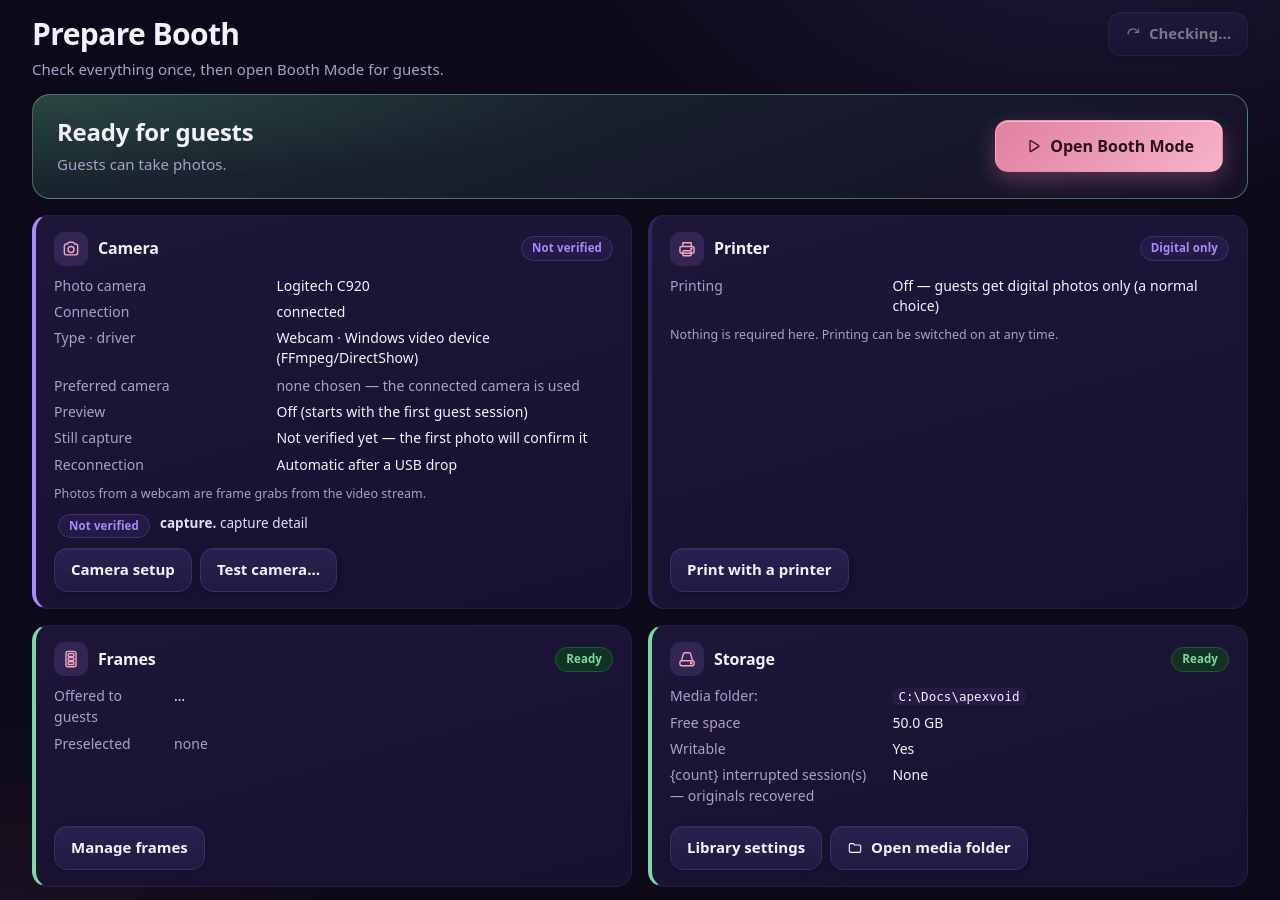
it: Prepare Booth › a refresh already running is not started twice
Click the button "Checking…" at (1178, 34), box [1108,12,1248,56]
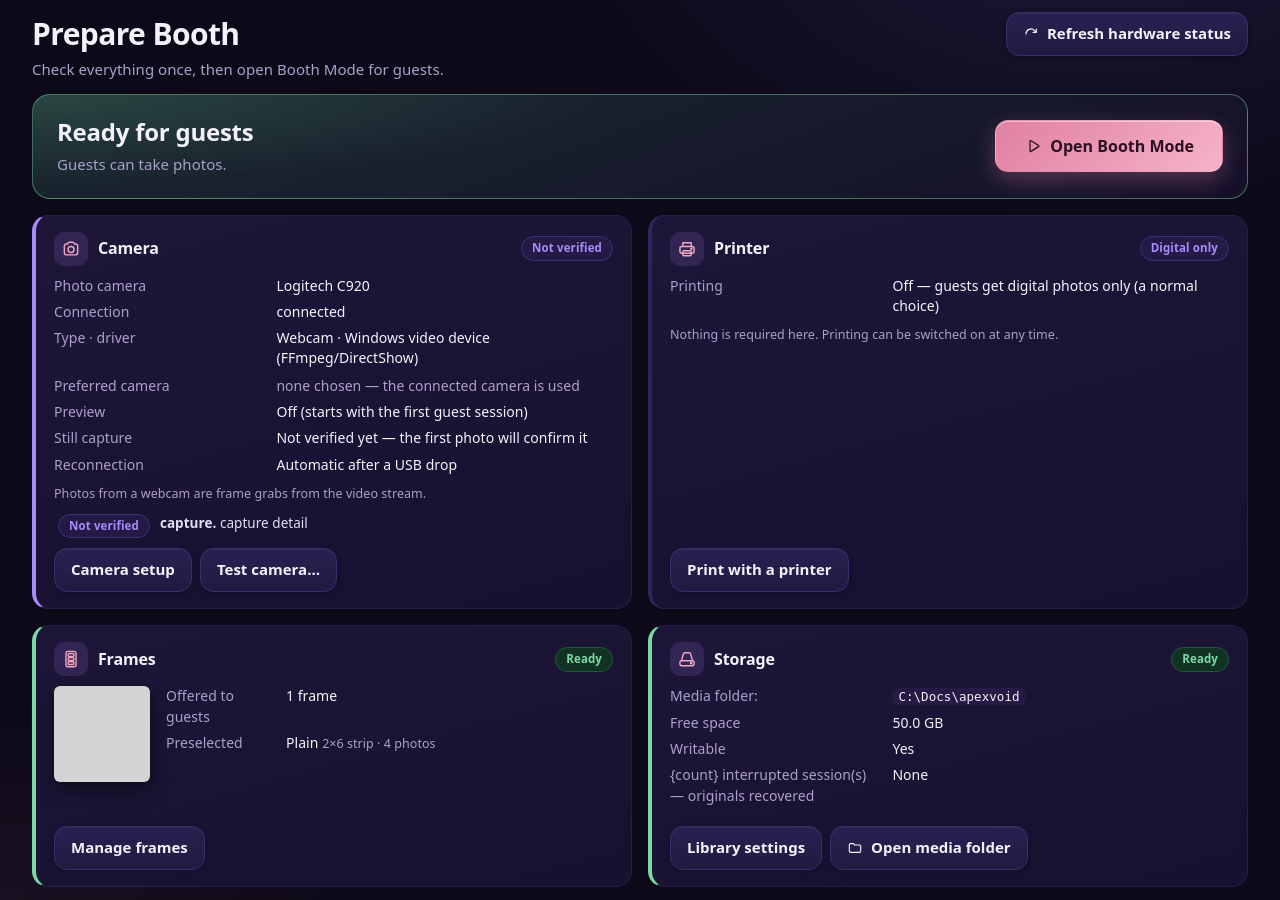
Expected: the button "Refresh hardware status" is enabled, [1006,12,1248,56]
